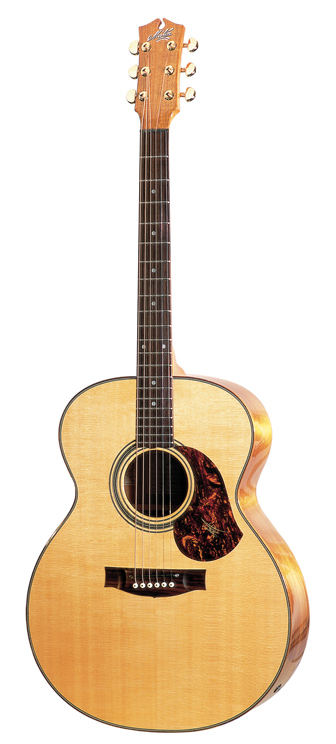guitar: (27, 16, 311, 732)
